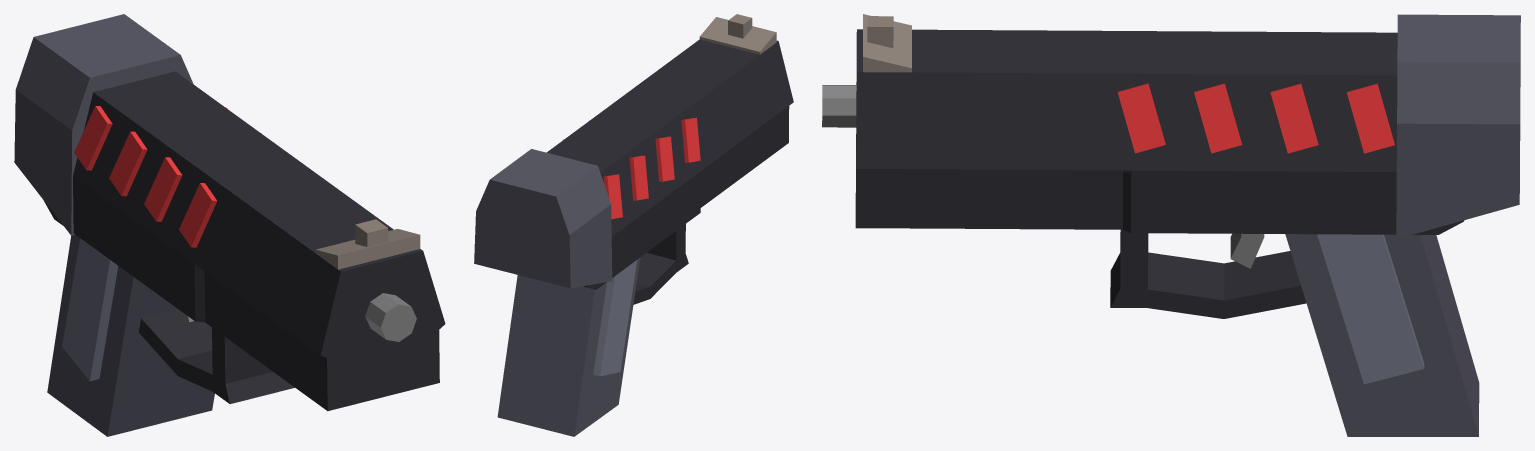
Rendered from Pistol.fbx.
3 views of the same model, side by side, from view 1: azimuth 30°, elevation 25°; view 2: azimuth 150°, elevation 25°; view 3: azimuth 270°, elevation 25° (orthographic). The views are drawn at different scales.
Visible parts, largest first — view 1: Pistol; view 2: Pistol; view 3: Pistol.
Part boxes in pixels (left/top/right/bottom): Pistol: left=14, top=14, right=445, bottom=436; Pistol: left=474, top=14, right=793, bottom=436; Pistol: left=822, top=14, right=1520, bottom=436.
Bounding box in the file's own units: 0.0988 × 0.2544 × 0.4158.
